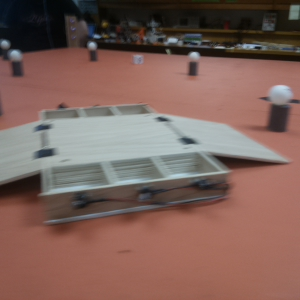corner: (64, 16, 78, 47)
obstacle: (270, 83, 291, 133), (186, 51, 201, 77), (10, 51, 24, 77), (1, 40, 11, 59), (89, 40, 97, 60)
side: (39, 171, 240, 211)
slope: (156, 117, 288, 172)
start: (261, 93, 300, 106)
